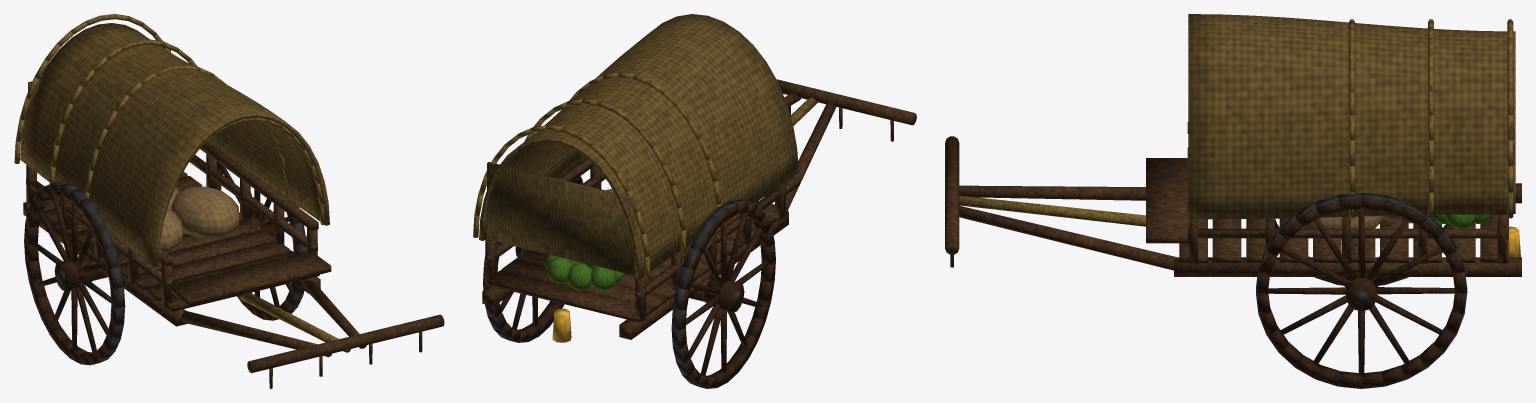
The model's file is kerala_bullock_cart_palla.glb.
The picture shows the model from 3 angles, left to right: view 1: azimuth 30°, elevation 25°; view 2: azimuth 150°, elevation 25°; view 3: azimuth 270°, elevation 25°; orthographic projection. The views are drawn at different scales.
Visible parts, largest first — view 1: Cart_Palla_Canopy, Cart_Chassis, Wheel_L_Wood, Cart_Palla_Ribs, Cart_CargoSacks, Wheel_L_Iron, Wheel_R_Wood, Cart_BambooShaft, Wheel_R_Iron; view 2: Cart_Palla_Canopy, Cart_Chassis, Cart_Palla_BackScreen, Wheel_L_Wood, Cart_Palla_Ribs, Wheel_L_Iron, Cart_Coconuts, Wheel_R_Wood, Cart_BrassLantern, Wheel_R_Iron; view 3: Cart_Palla_Canopy, Cart_Chassis, Wheel_R_Wood, Cart_Palla_Ribs, Wheel_R_Iron, Cart_BambooShaft, Cart_CargoSacks, Cart_Coconuts.
Part boxes in pixels (<box>): Cart_Palla_Canopy: <box>20,23,329,267</box>; Cart_Chassis: <box>23,142,444,388</box>; Wheel_L_Wood: <box>24,185,115,363</box>; Cart_Palla_Ribs: <box>14,14,324,264</box>; Cart_CargoSacks: <box>159,186,238,252</box>; Wheel_L_Iron: <box>24,182,125,365</box>; Wheel_R_Wood: <box>217,162,298,319</box>; Cart_BambooShaft: <box>239,292,350,352</box>; Wheel_R_Iron: <box>237,200,306,320</box>; Cart_Palla_Canopy: <box>479,14,798,279</box>; Cart_Chassis: <box>482,79,916,339</box>; Cart_Palla_BackScreen: <box>487,162,634,274</box>; Wheel_L_Wood: <box>681,203,775,387</box>; Cart_Palla_Ribs: <box>473,72,721,279</box>; Wheel_L_Iron: <box>671,200,775,388</box>; Cart_Coconuts: <box>545,254,624,290</box>; Wheel_R_Wood: <box>494,176,582,341</box>; Cart_BrassLantern: <box>552,308,571,342</box>; Wheel_R_Iron: <box>483,176,583,342</box>; Cart_Palla_Canopy: <box>1188,14,1515,219</box>; Cart_Chassis: <box>945,122,1521,276</box>; Wheel_R_Wood: <box>1257,199,1465,387</box>; Cart_Palla_Ribs: <box>1349,19,1513,218</box>; Wheel_R_Iron: <box>1256,192,1467,388</box>; Cart_BambooShaft: <box>959,195,1145,226</box>; Cart_CargoSacks: <box>1302,215,1412,239</box>; Cart_Coconuts: <box>1433,214,1492,228</box>.
Size of the model in its own units: 2.03 by 2.54 by 4.23.
Materials: 9 (9 with a texture image).
